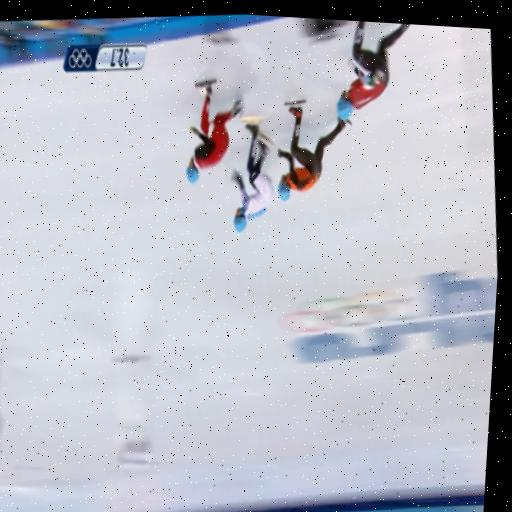Skater: (277, 100, 349, 200), (336, 21, 409, 119), (185, 80, 242, 182), (231, 122, 273, 231)
